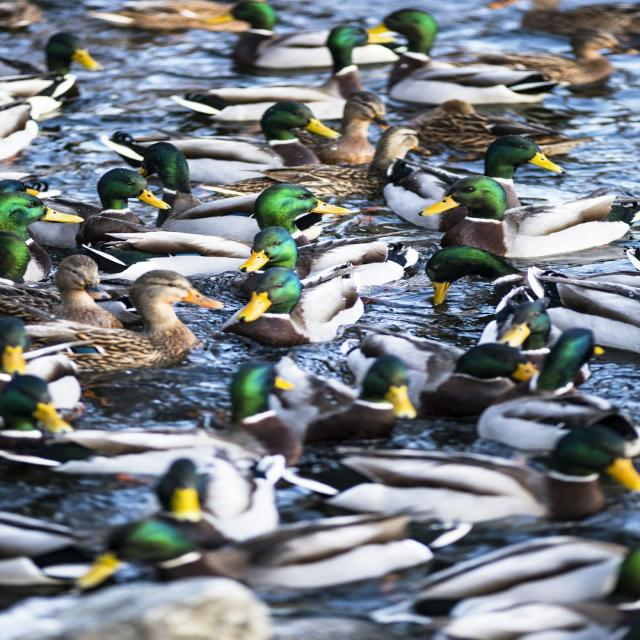ducks: (112, 472, 445, 585), (96, 359, 336, 478), (426, 299, 604, 440), (218, 175, 396, 310), (426, 120, 598, 254), (0, 233, 211, 342), (10, 167, 202, 246), (0, 32, 163, 115), (304, 19, 416, 120)
